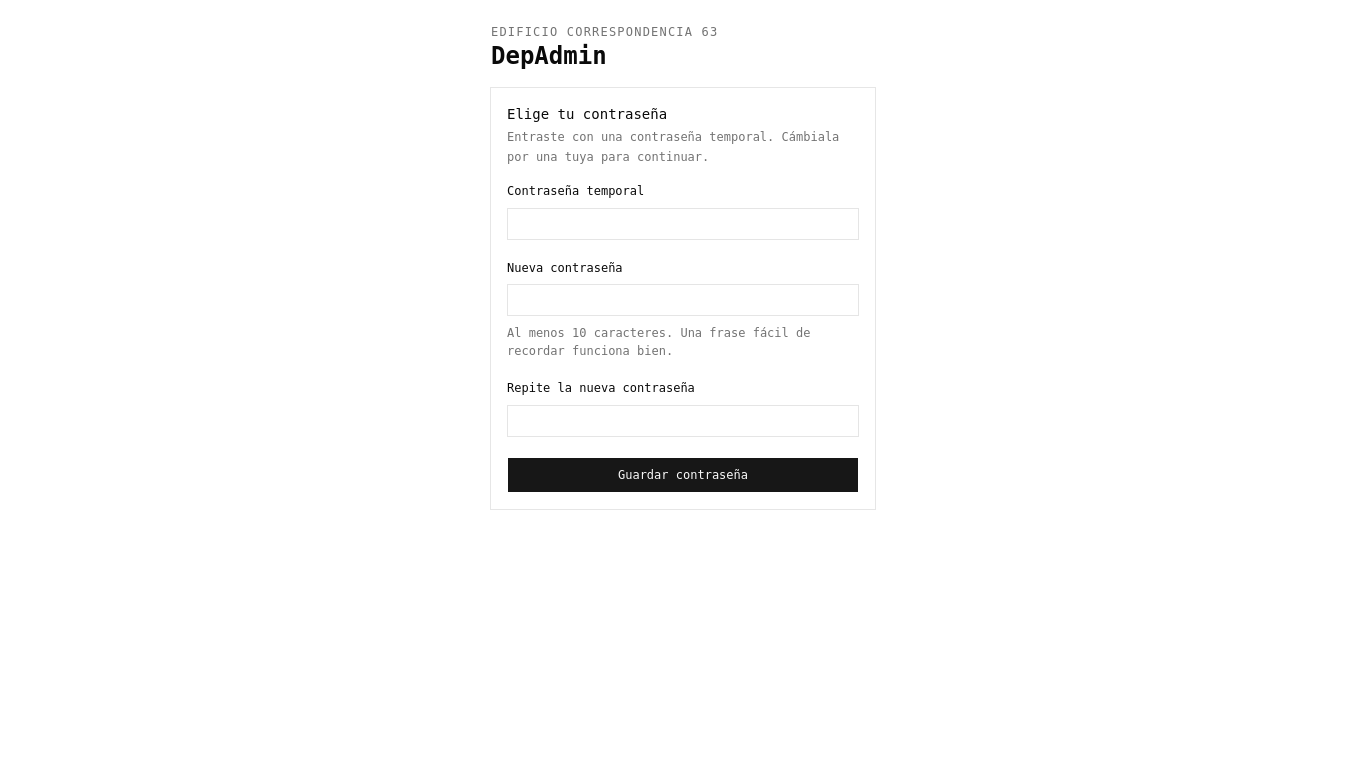
Scenario: navigation and session › requires a new password after a reset before anything else
The image size is (1366, 768).
expect the heading "Elige tu contraseña" is shown: met, box [507,106,667,122]
Type "abcd-efgh-jkmn-pqrs" into the password field labelled "Contraseña temporal".
click(683, 224); type("abcd-efgh-jkmn-pqrs")  # box [507,208,859,240]
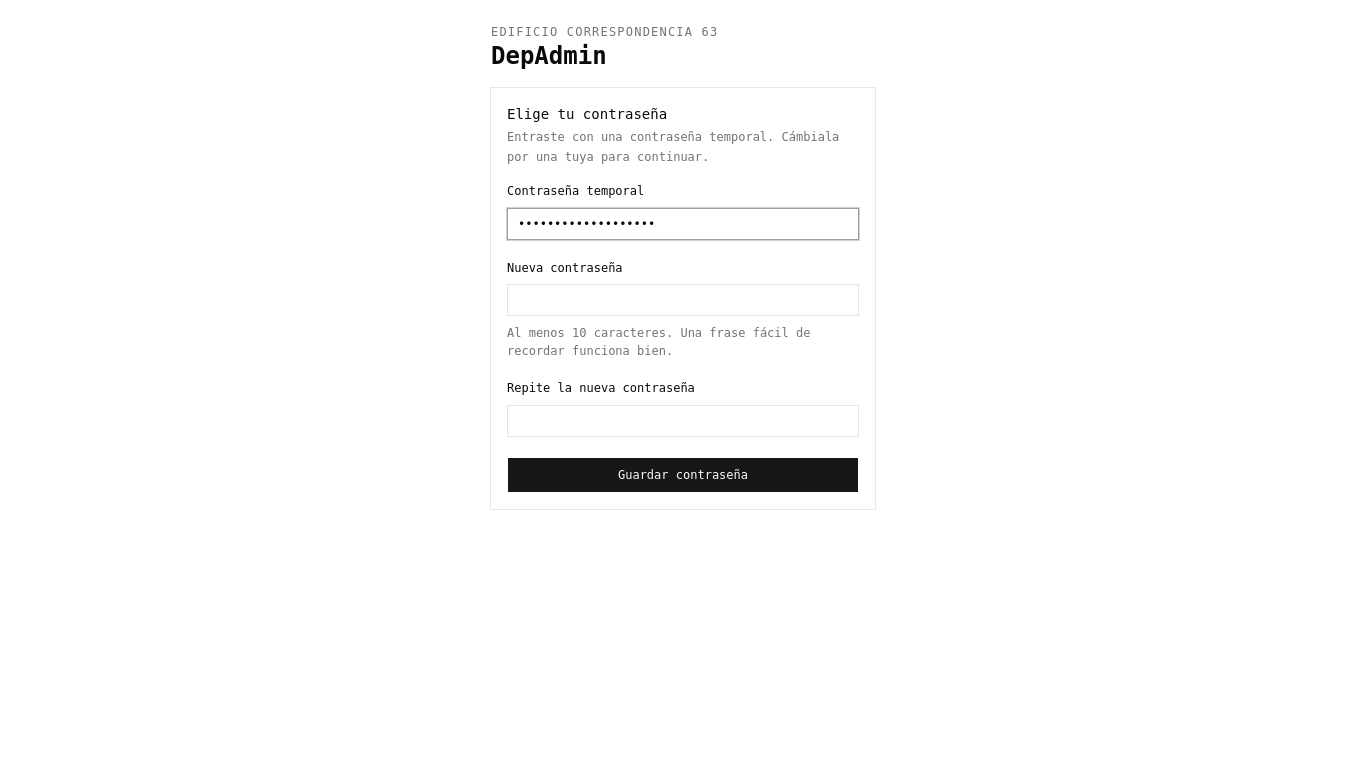
Type "la casa del 501" into the password field labelled "Nueva contraseña".
click(683, 300); type("la casa del 501")  # box [507,284,859,316]
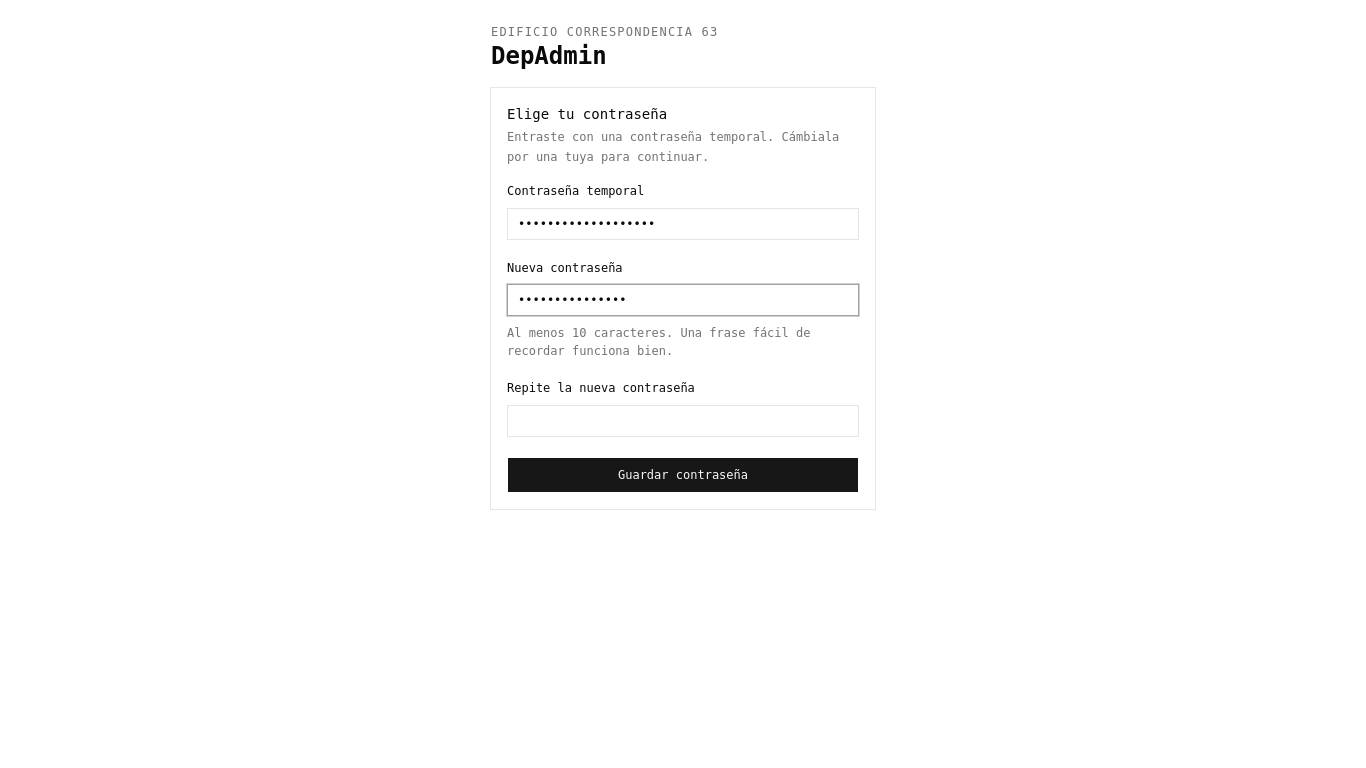
Type "la casa del 502" into the password field labelled "Repite la nueva contraseña".
click(683, 420); type("la casa del 502")  # box [507,404,859,436]
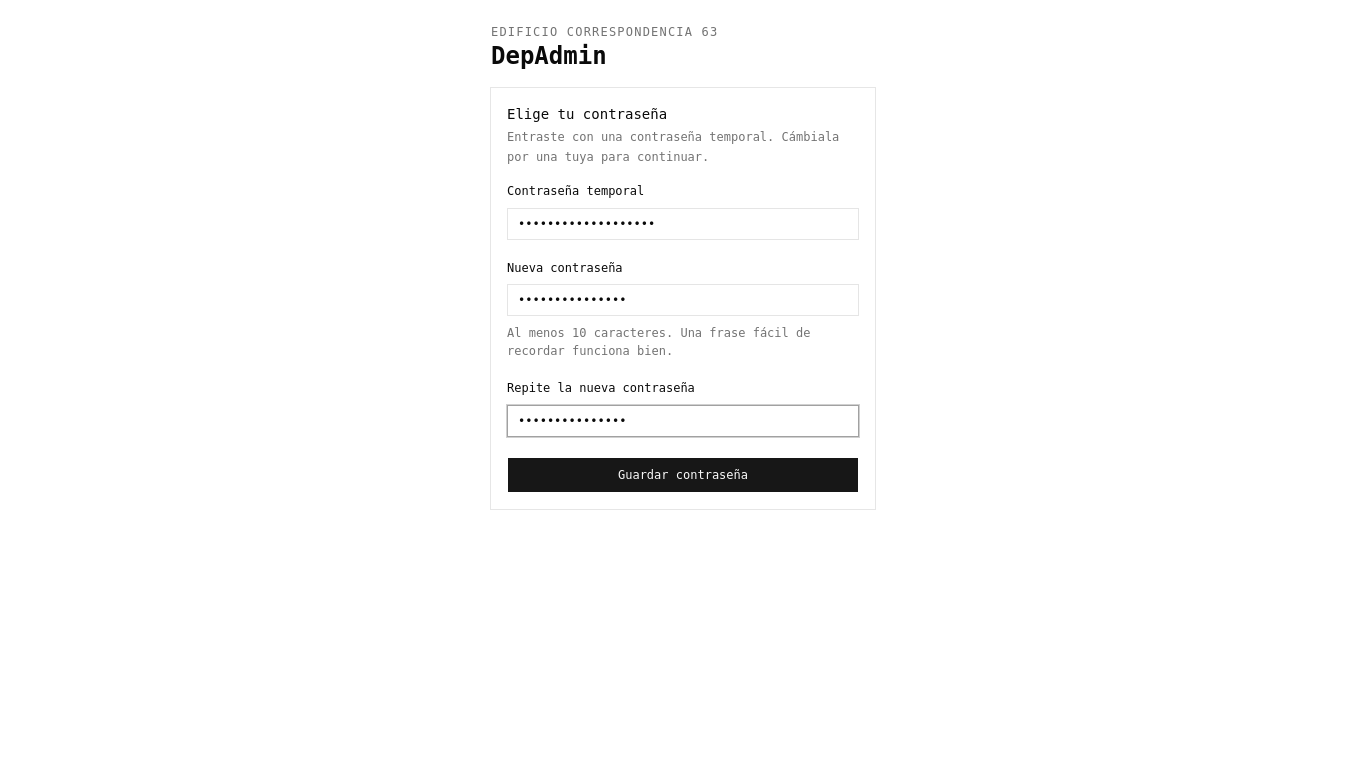
Click the button "Guardar contraseña".
click(683, 474)  # box [507,456,859,492]
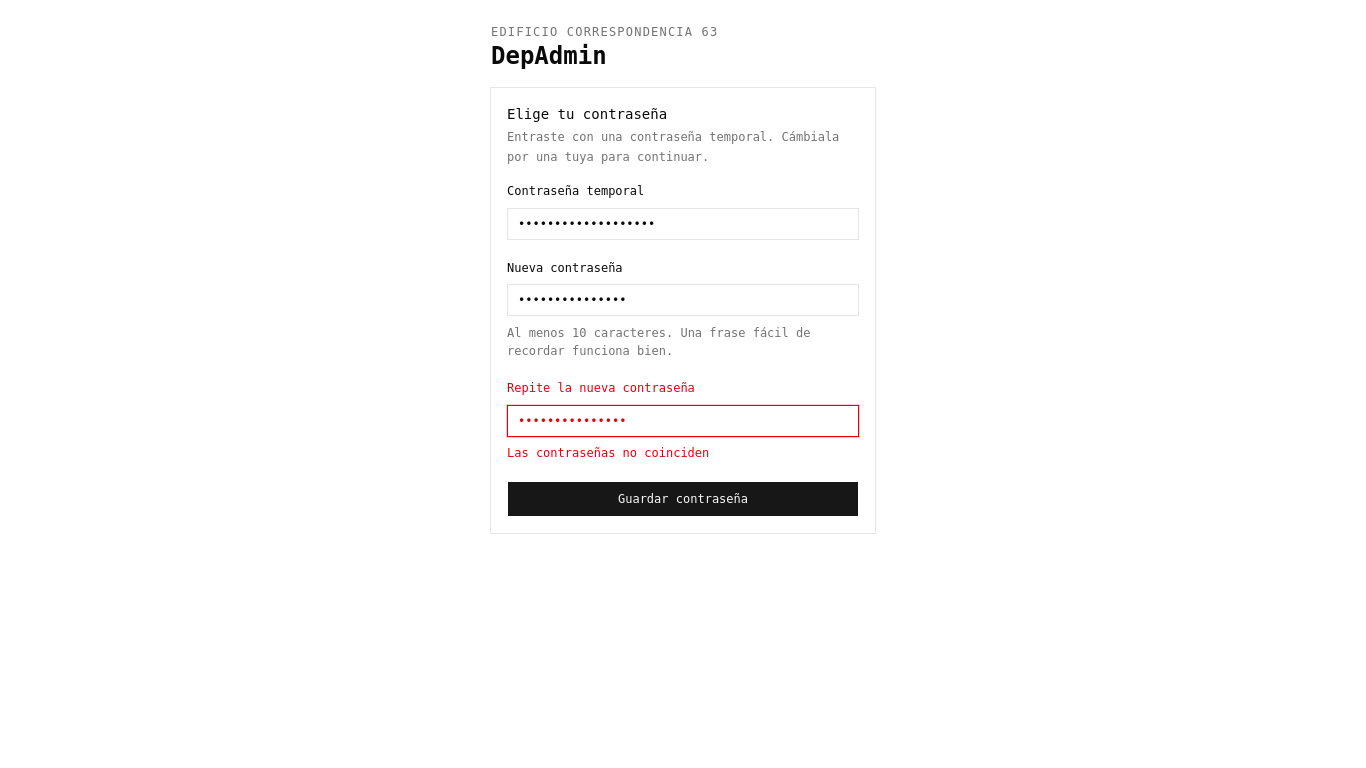
expect the text "Las contraseñas no coinciden" is shown: met, box [507,446,709,460]
Type "la casa del 501" into the password field labelled "Repite la nueva contraseña".
click(683, 420); type("la casa del 501")  # box [507,404,859,436]
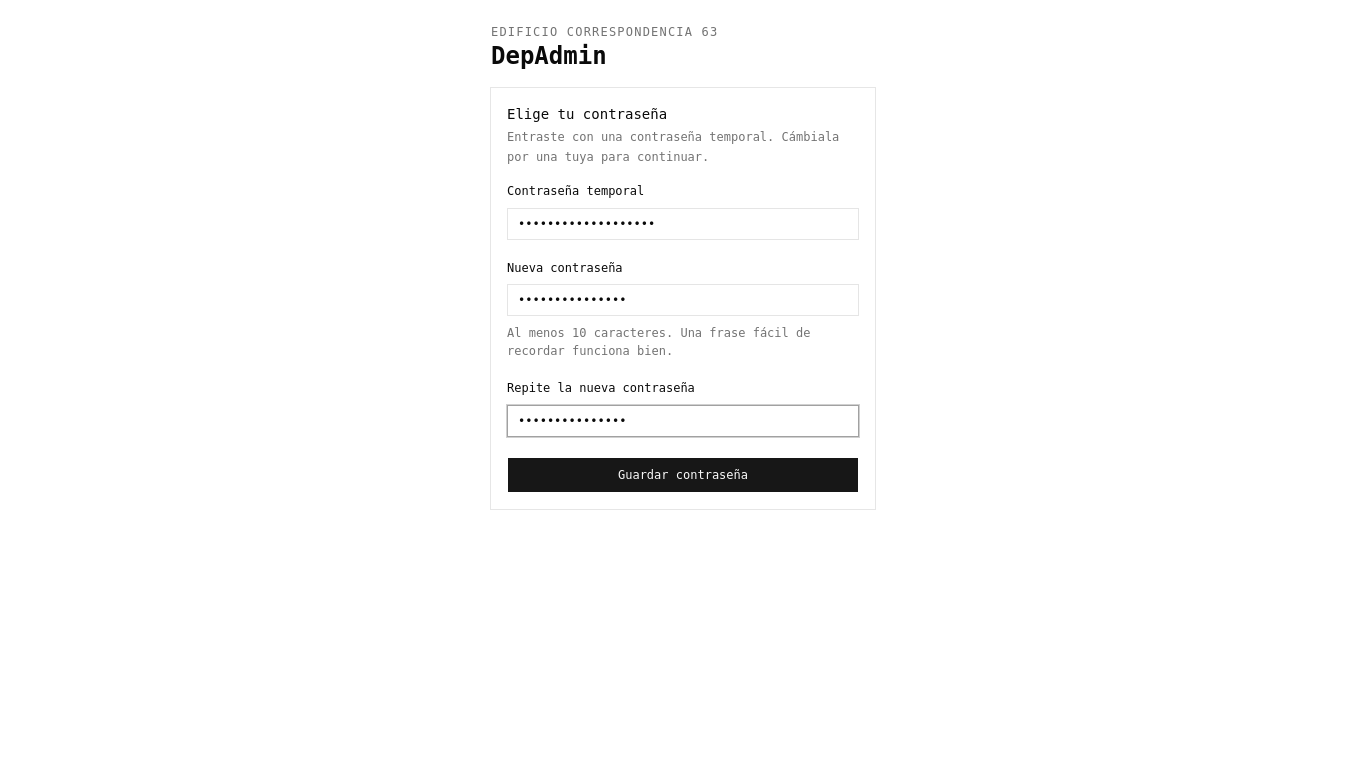
Click the button "Guardar contraseña".
click(683, 474)  # box [507,456,859,492]
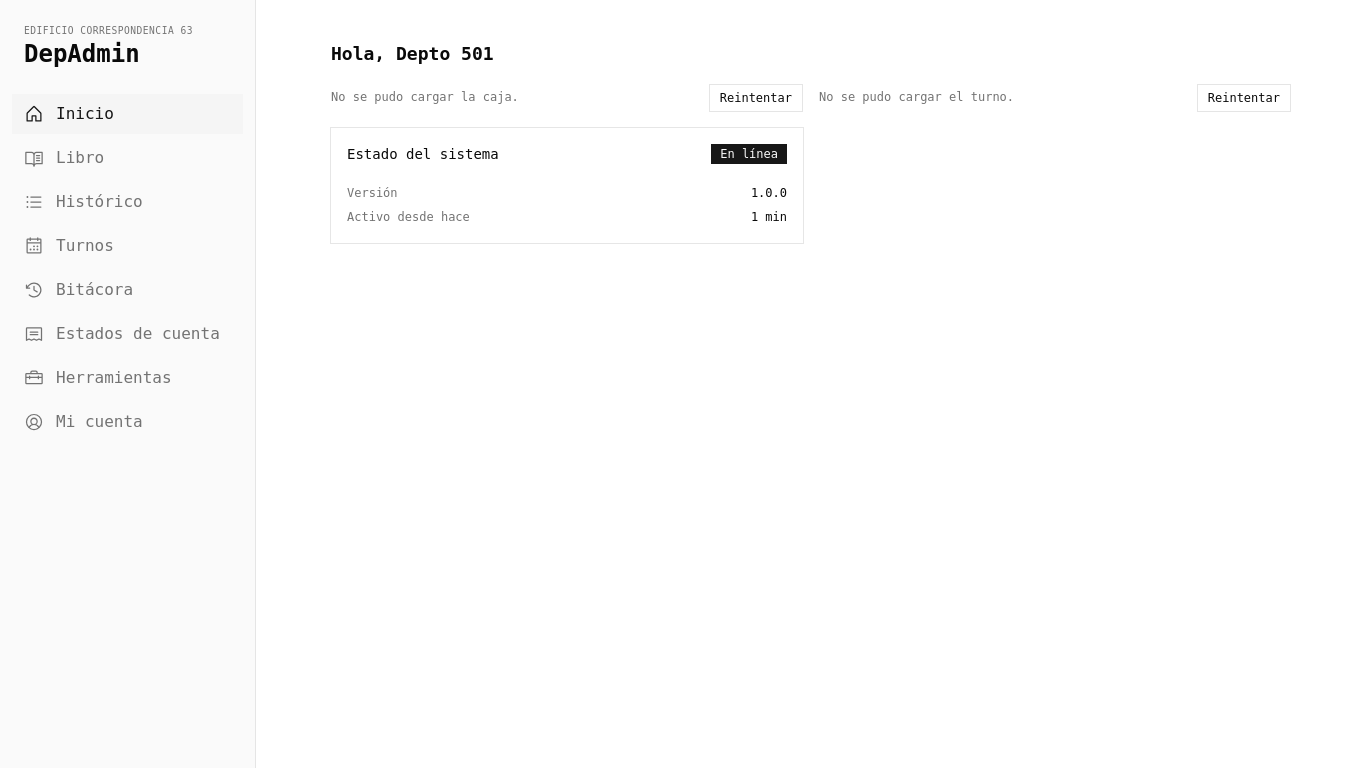
expect the heading "Hola, Depto 501" is shown: met, box [331,43,494,64]
expect the navigation bar is shown: met, box [12,94,243,442]
